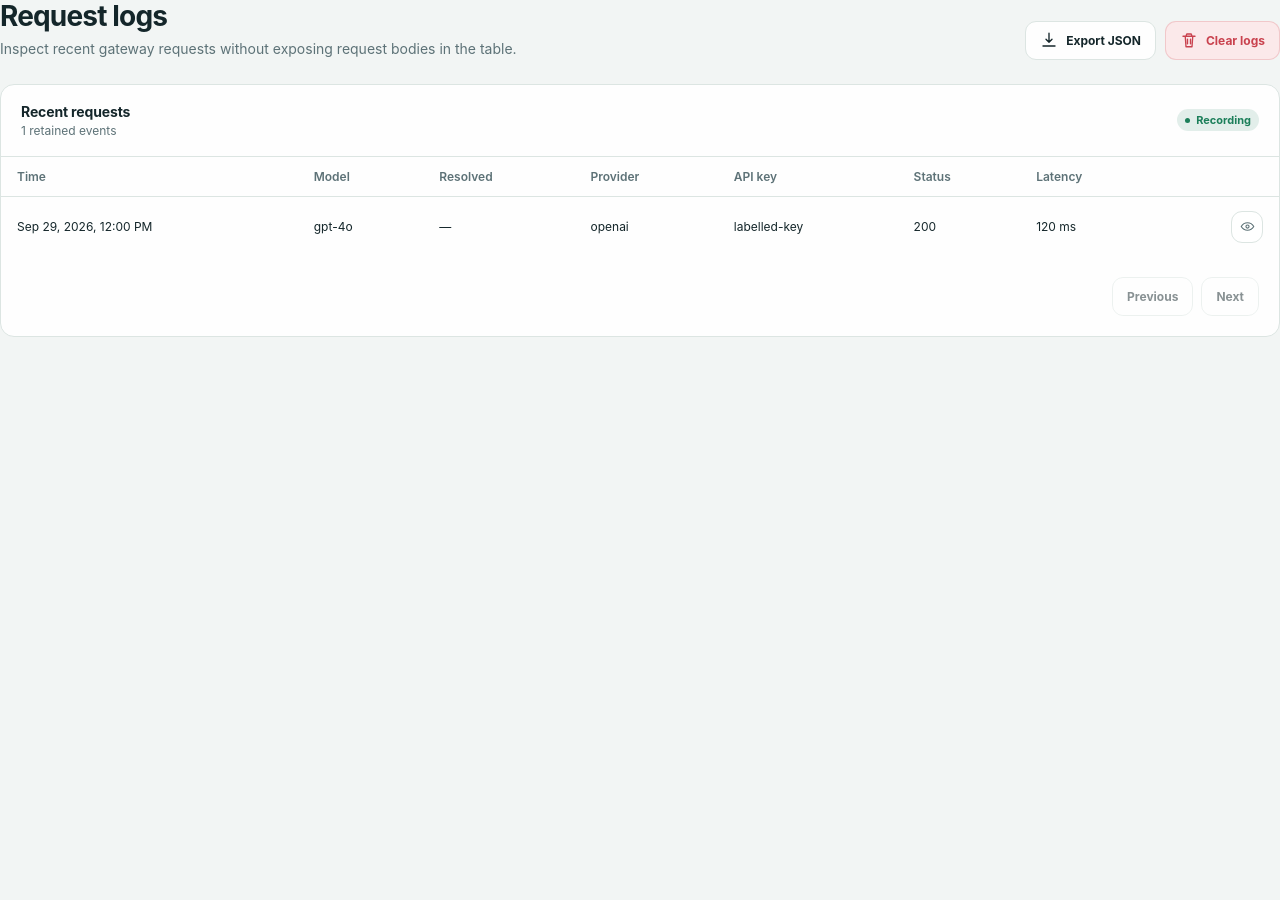
RequestLogsPage API key column › shows the same key field in the inspect modal
Step 1. Click the button titled "Inspect" → (1247, 227), box [1231, 211, 1263, 243]
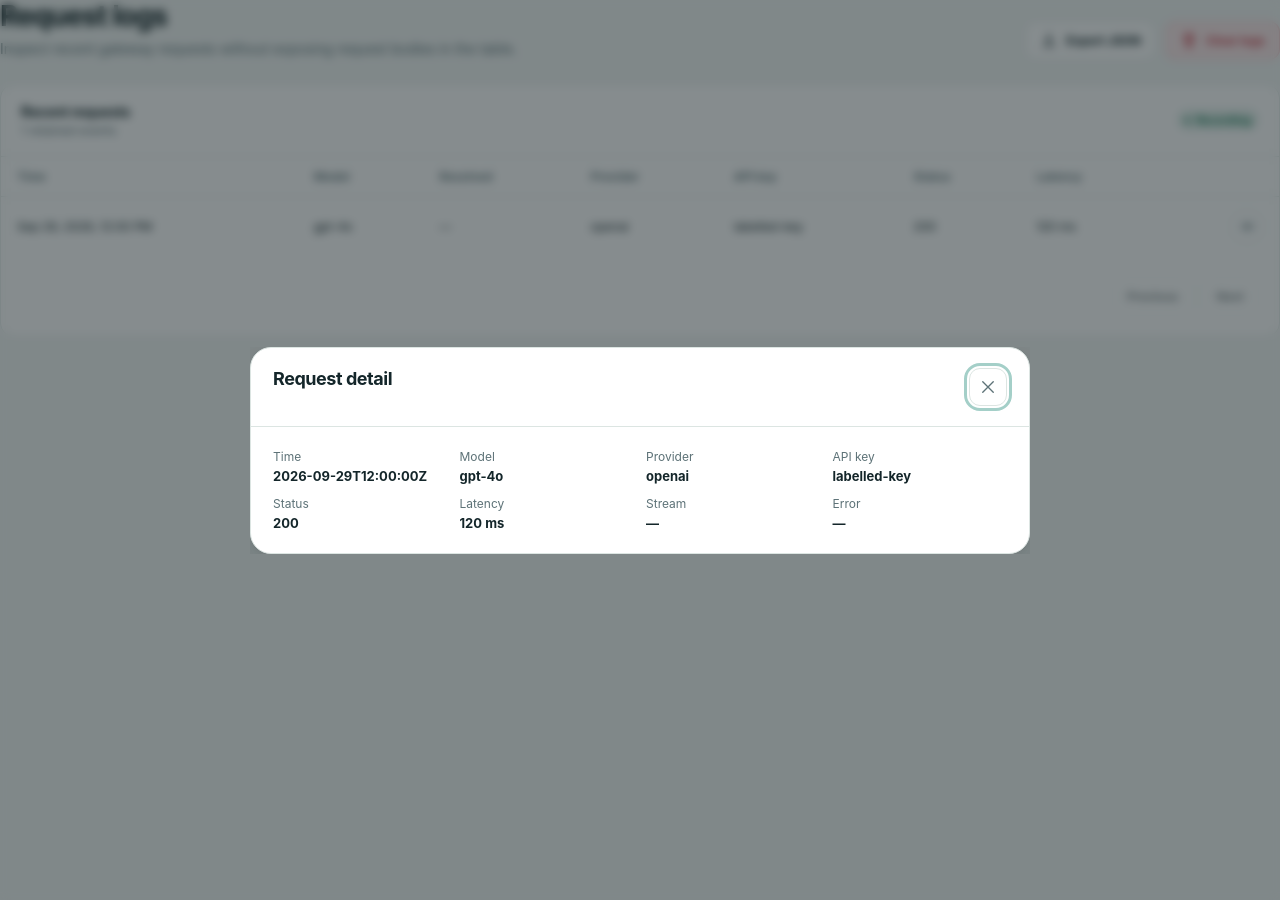
expect the text "API key" is shown: met, box [832, 448, 875, 464]
expect the text "labelled-key" is shown: met, box [832, 468, 911, 484]
